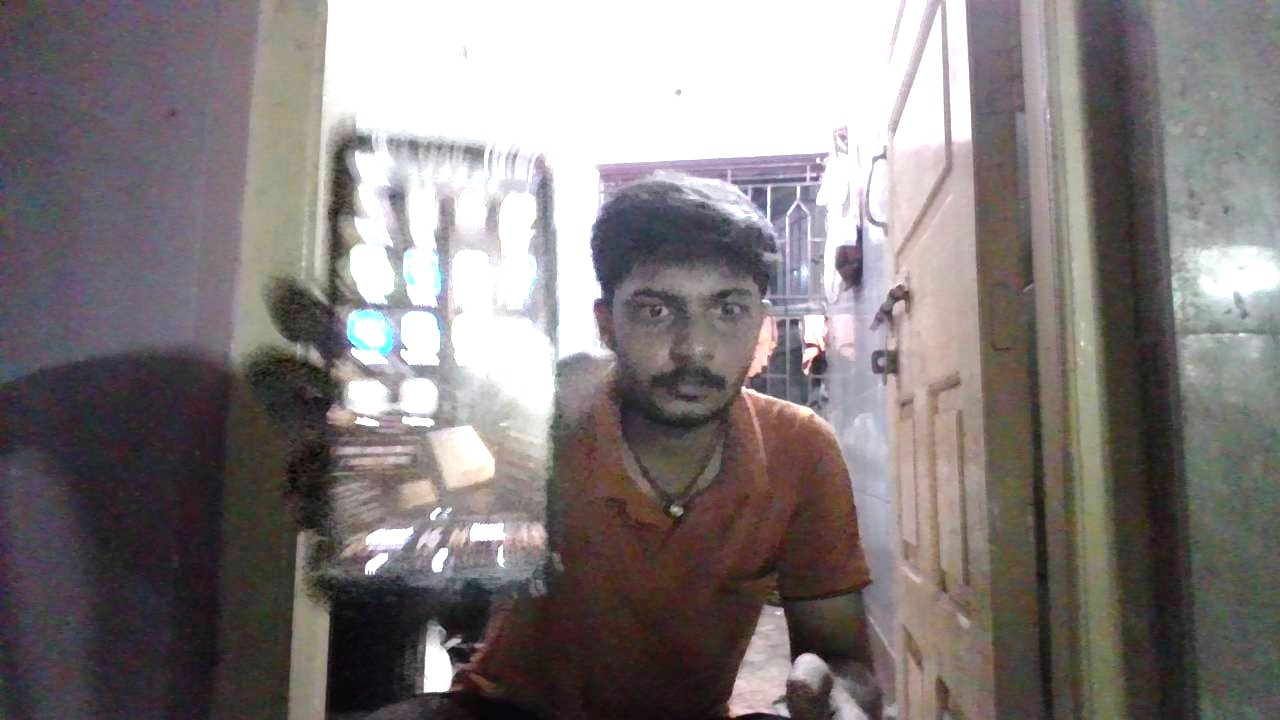red_box: (698, 407, 869, 584), (576, 439, 672, 544)
